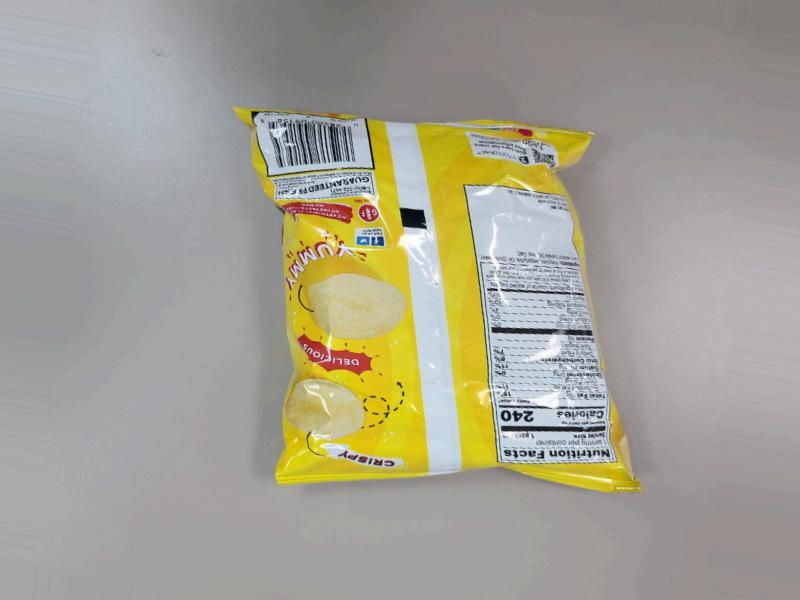lays: (300, 140, 652, 501)
